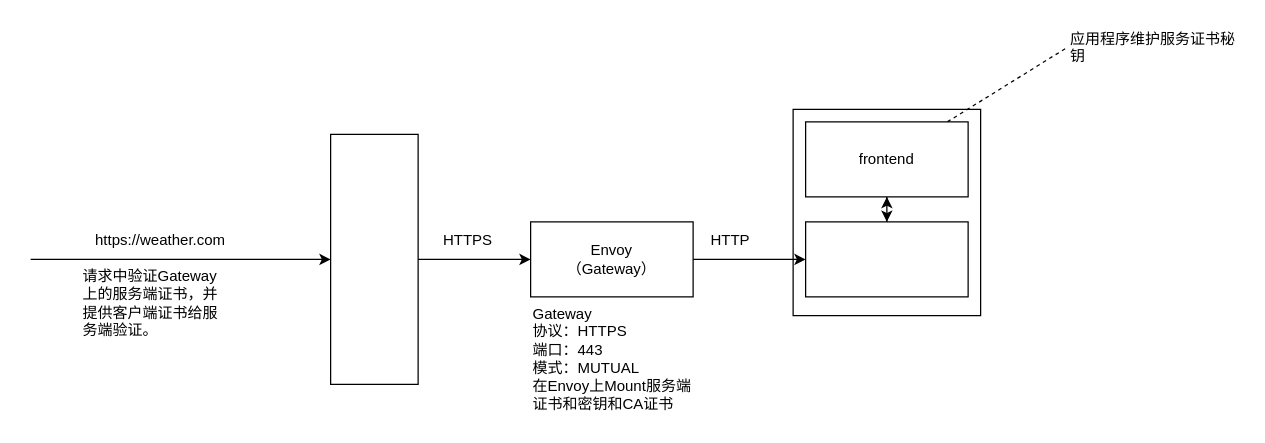
This 1265x443 diagram has some shape labels left out. Here are the shapes that lost their labels. From the top down, the box of each, then its label:
(329, 133, 418, 384): 负载均衡器
(804, 221, 968, 297): Envoy （Sidecar）
